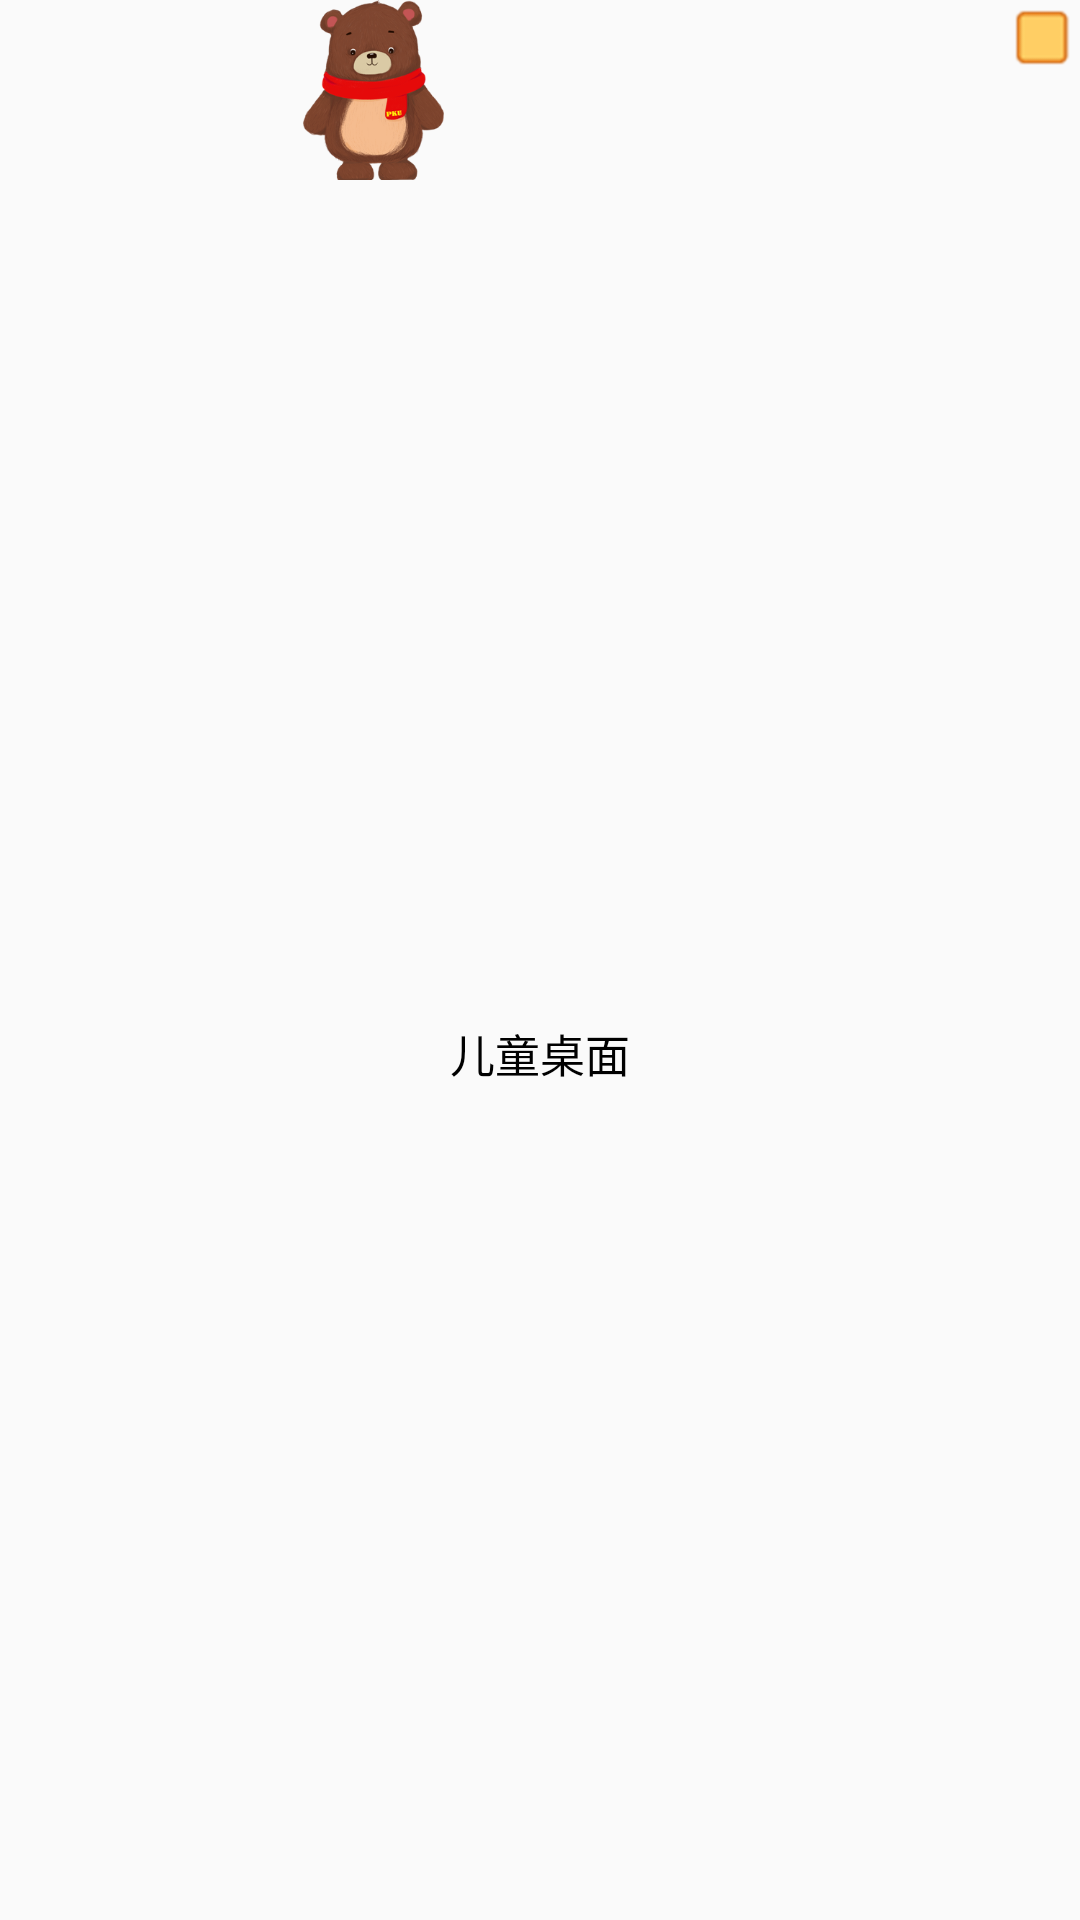

Icon bounding boxes for this 1080 × 1920 phone screenshot, format (x1, y1, x2, y2):
bear: (303, 0, 444, 180)
checkbox: (1015, 10, 1069, 65)
